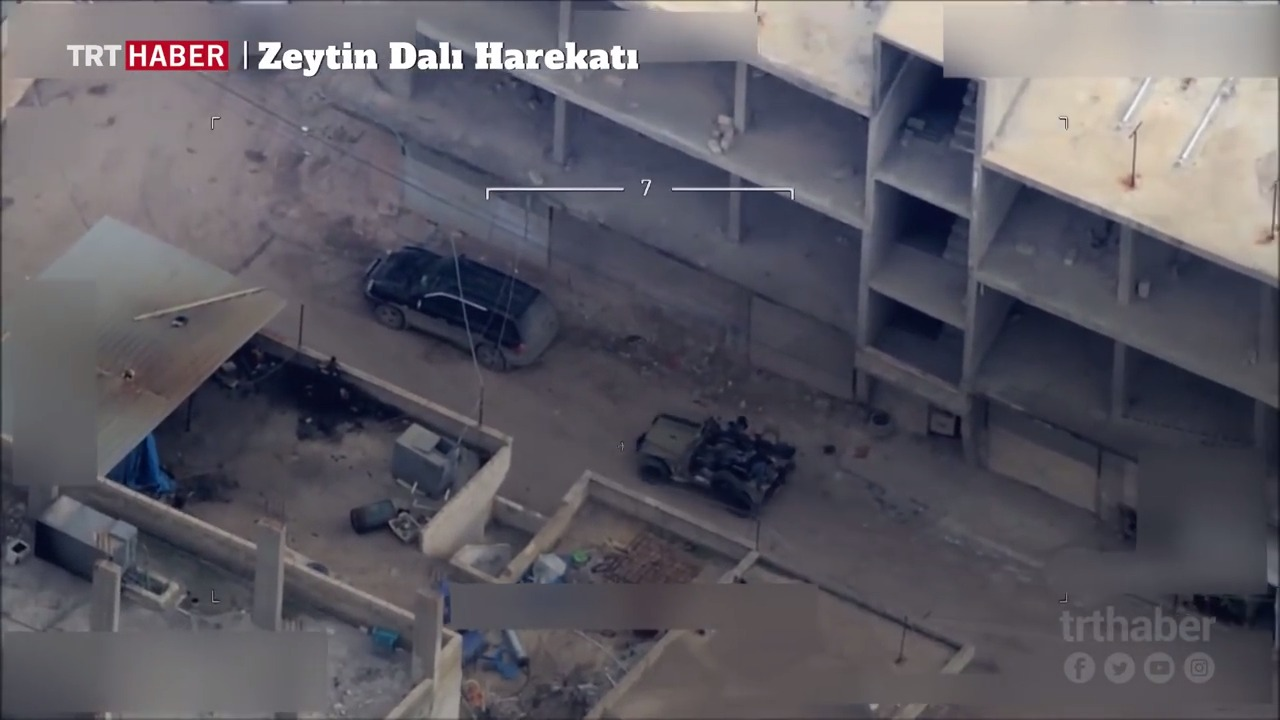arac: (354, 223, 583, 374), (626, 406, 815, 523)
